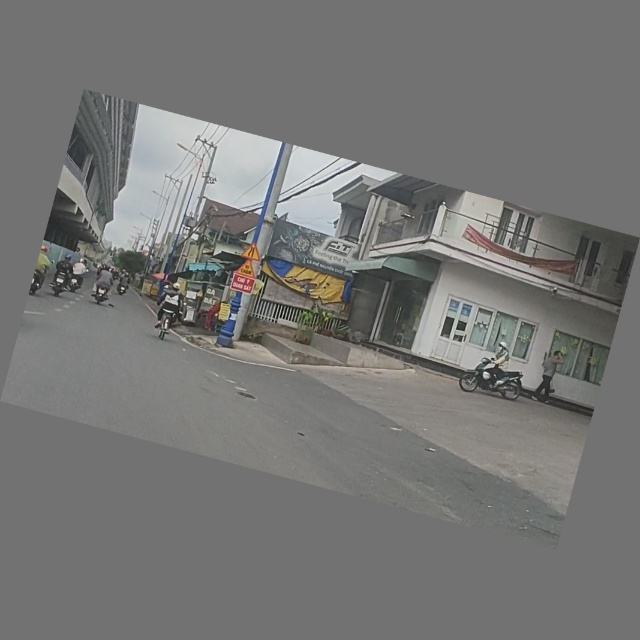W.203b: (241, 241, 264, 263)
W.245a: (235, 257, 260, 279)
